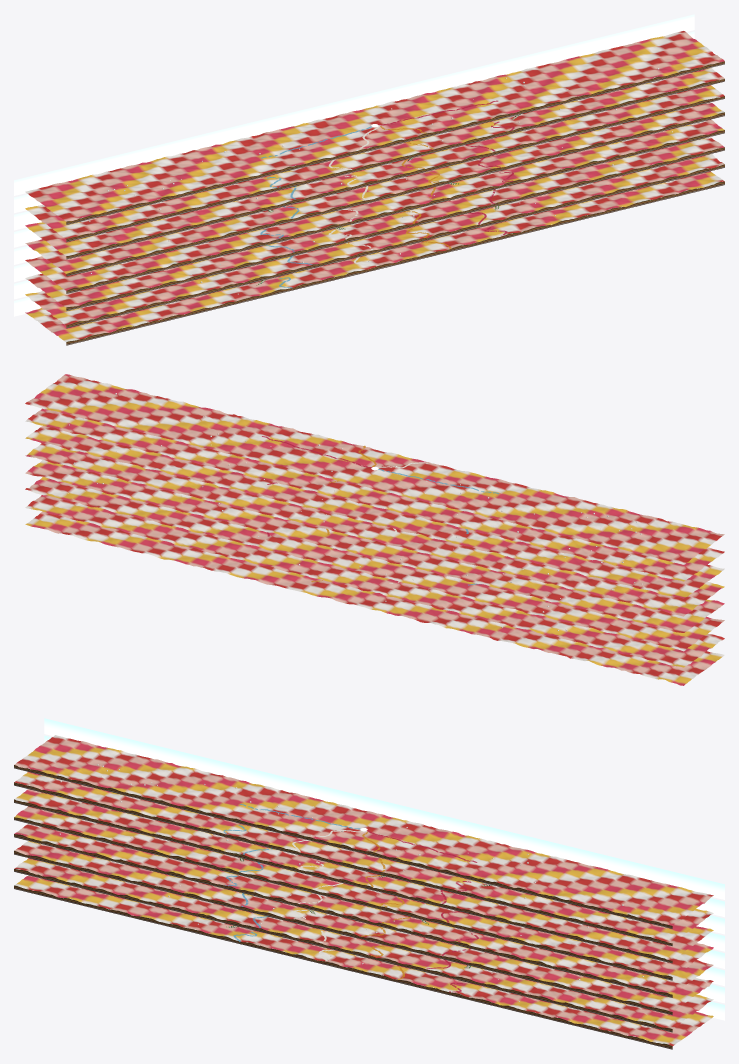
The model's file is ZB_dunya_kesit.glb.
The picture shows the model from 3 angles, top to bottom: view 1: azimuth 30°, elevation 25°; view 2: azimuth 150°, elevation 25°; view 3: azimuth 330°, elevation 25°; orthographic projection.
Visible parts, largest first — view 1: zeminler, kesit_yuzu, gokler, irmaklar; view 2: zeminler, irmaklar; view 3: zeminler, kesit_yuzu, gokler, irmaklar.
Boxes of the visible parts, box(x1,y1,x2,y2) form: zeminler: box(25, 31, 724, 341); kesit_yuzu: box(66, 61, 724, 345); gokler: box(14, 14, 694, 316); irmaklar: box(260, 100, 514, 288); zeminler: box(25, 374, 724, 685); irmaklar: box(262, 436, 498, 585); zeminler: box(14, 735, 713, 1046); kesit_yuzu: box(14, 765, 672, 1049); gokler: box(44, 718, 724, 1020); irmaklar: box(223, 804, 478, 992).
Size of the model in its own units: 12400 by 2400 by 1316.
